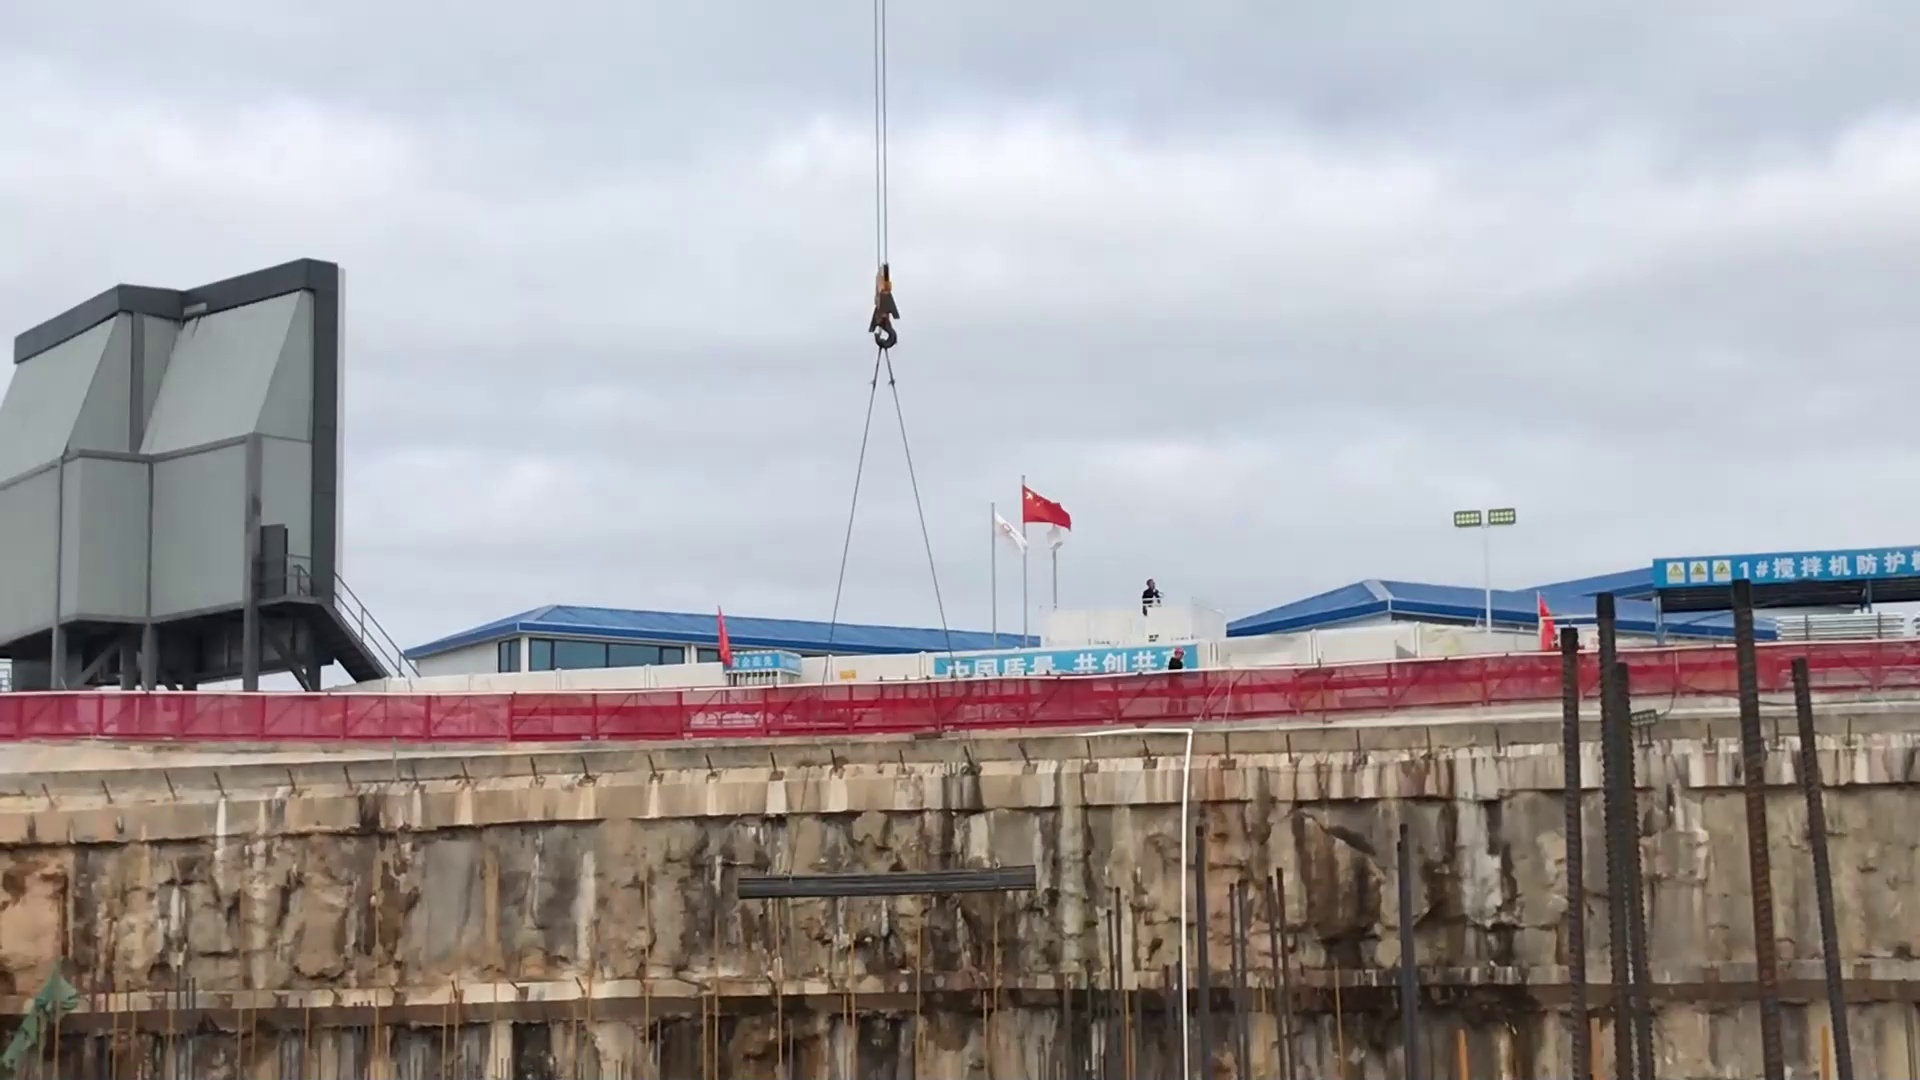fence: (1, 632, 1917, 767)
hook: (853, 258, 919, 352)
rebar: (724, 857, 1050, 909)
slogan: (928, 640, 1200, 684)
